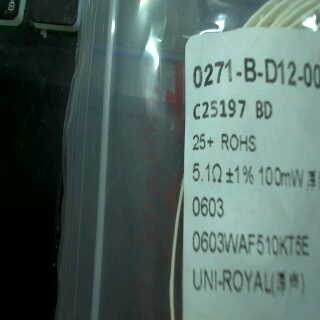5.1R: (186, 151, 224, 192)
